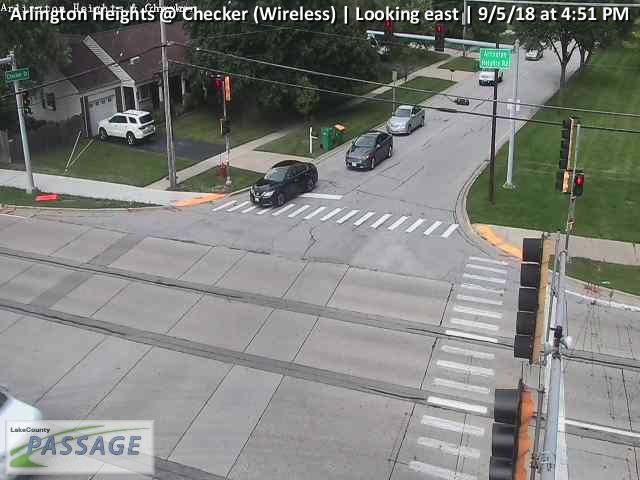SUV: (96, 110, 156, 144)
Sedan: (249, 159, 319, 209), (344, 130, 394, 173), (386, 105, 426, 134), (478, 67, 504, 86), (526, 47, 543, 60)
